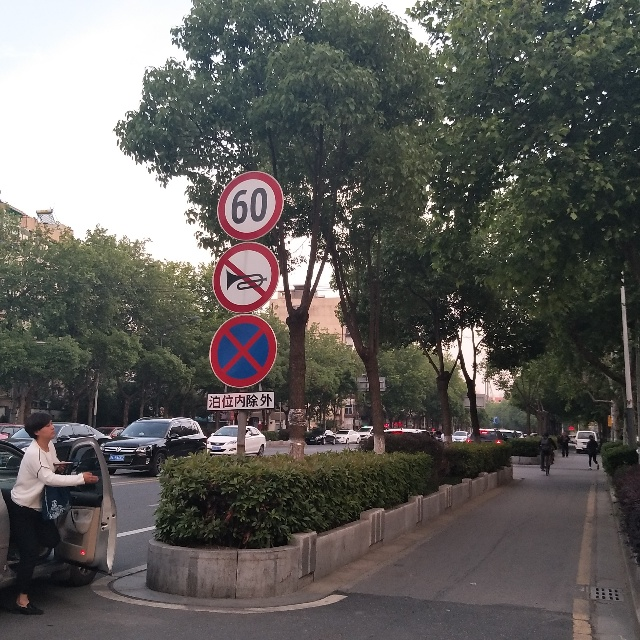nohonk: (207, 241, 283, 313)
stop: (209, 314, 287, 391)
